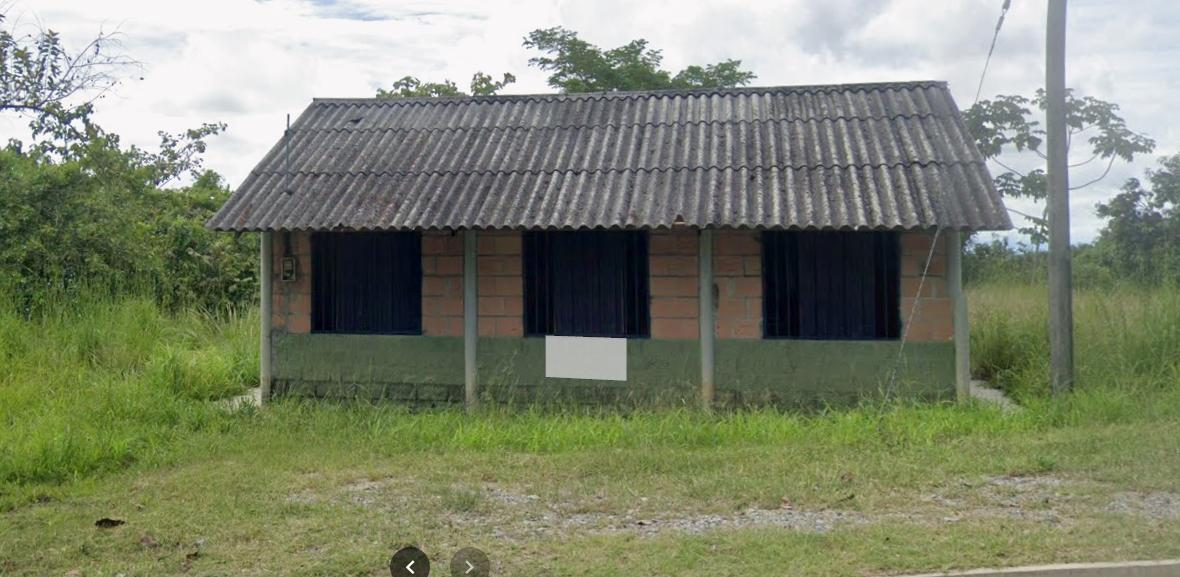casa: (206, 82, 1011, 404)
poste: (1047, 0, 1074, 396)
